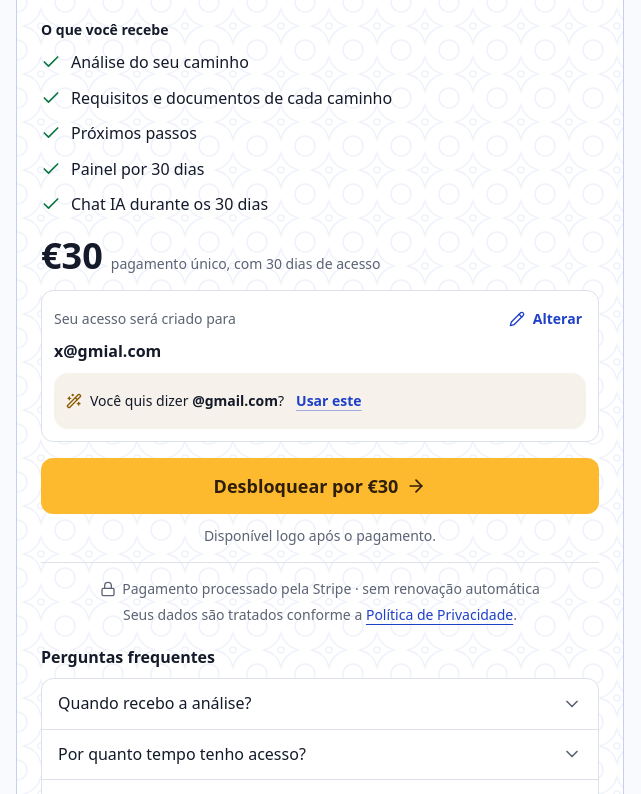
Test: e-mail de acesso (DI-031) › e-mail inválido mostra erro; 'x@gmial.com' sugere 'gmail.com'
The image size is (641, 794).
(page scrolled)
Expected: the text "@gmail.com" is shown, x1=192 y1=390 x2=278 y2=410
Click the button with test id "results-access-email-suggestion" at (329, 400), box x1=292 y1=380 x2=366 y2=420
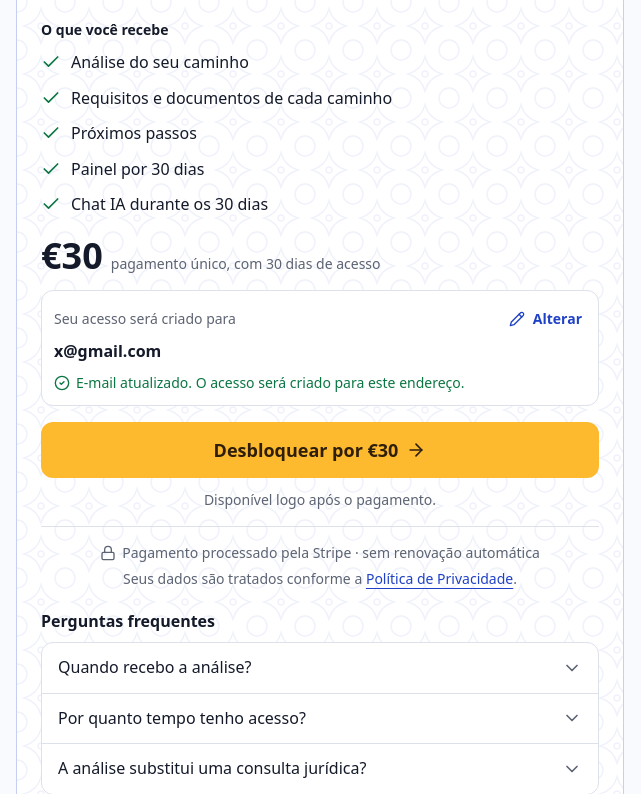
Expected: the text "x@gmail.com" is shown, x1=54 y1=340 x2=161 y2=362
Click the button with test id "results-access-email-edit" at (545, 319), box x1=499 y1=299 x2=592 y2=339
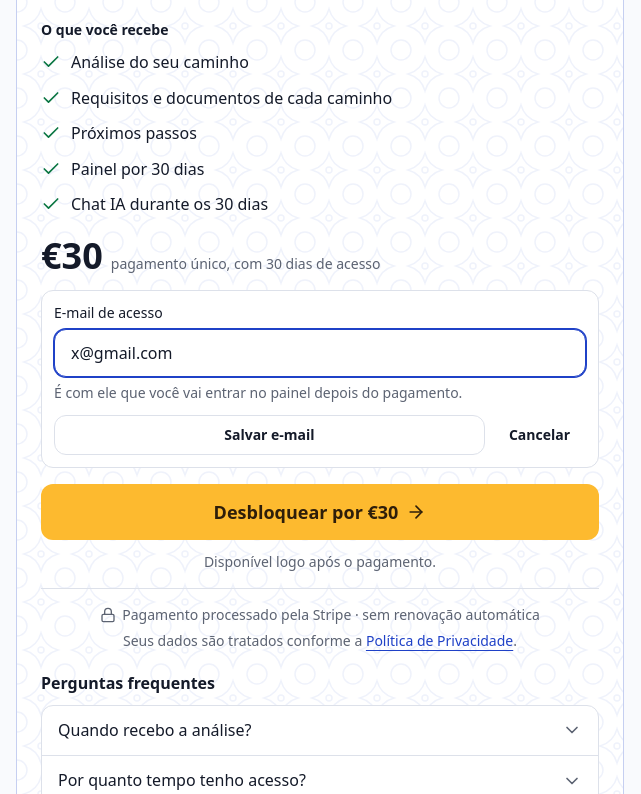
Replace the text in the field with test id "results-access-email-input" with "sem-arroba" at (320, 353), box x1=54 y1=329 x2=586 y2=377
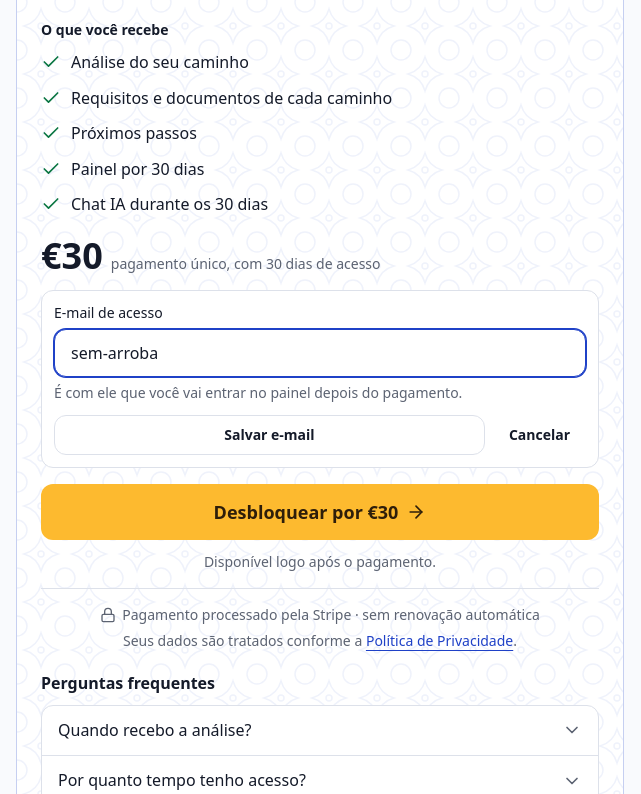
Click the button "Salvar e-mail" at (269, 435), box x1=54 y1=415 x2=485 y2=455
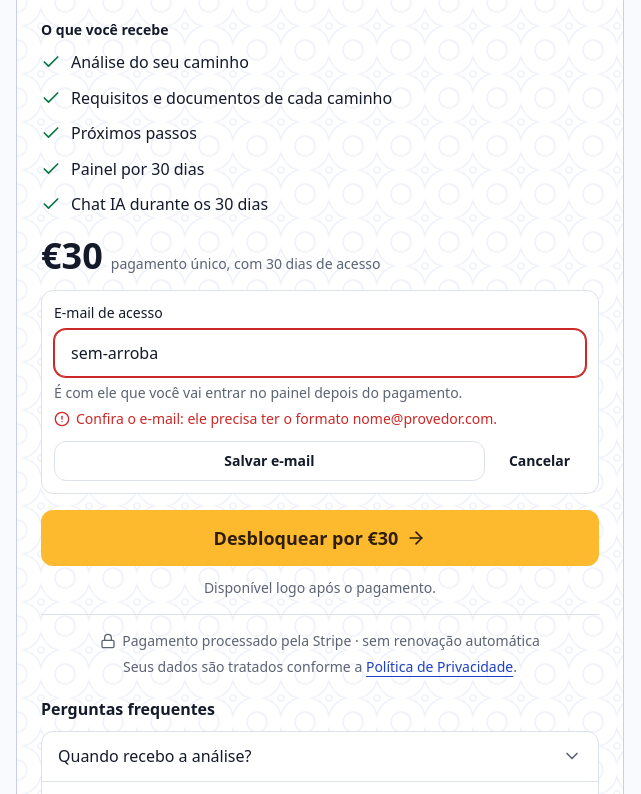
Expected: the message shows "nome@provedor.com", x1=76 y1=409 x2=497 y2=428
